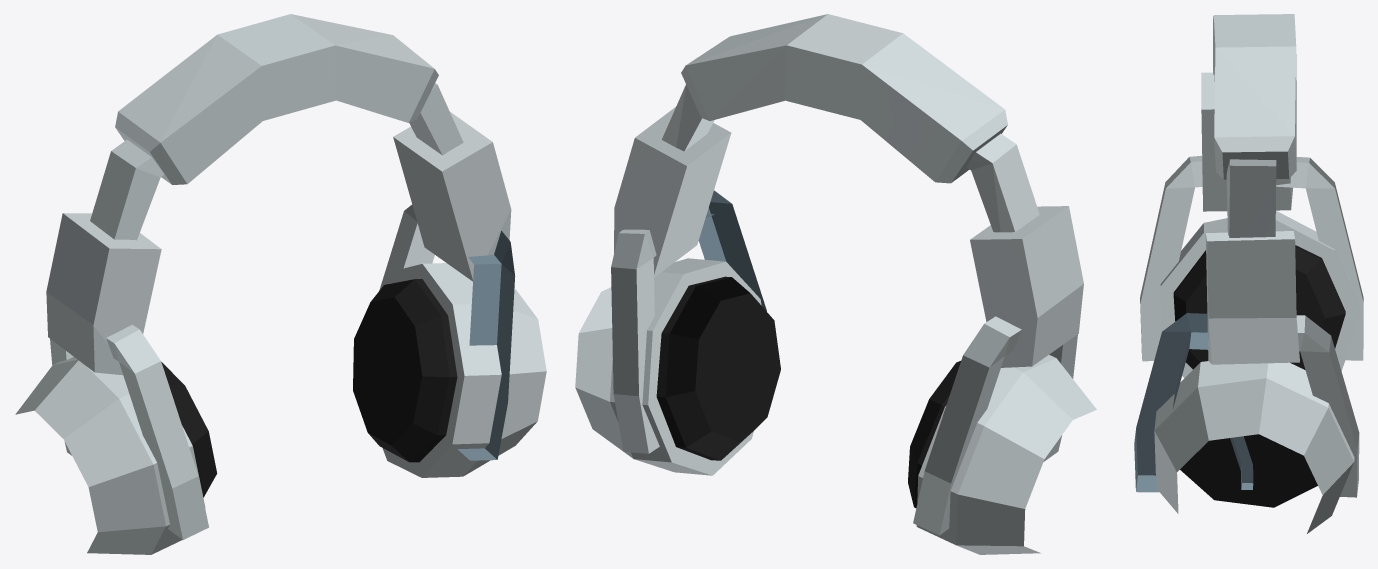
File: Headphones by Nick Slough - qAdSFPFhzJ.glb
3 views of the same model, side by side, from view 1: azimuth 30°, elevation 25°; view 2: azimuth 150°, elevation 25°; view 3: azimuth 270°, elevation 25° (orthographic). The views are drawn at different scales.
Visible parts, largest first — view 1: Headphones; view 2: Headphones; view 3: Headphones.
Part boxes in pixels (left/top/right/bottom): Headphones: left=15, top=14, right=546, bottom=554; Headphones: left=575, top=14, right=1096, bottom=554; Headphones: left=1134, top=14, right=1363, bottom=533.
Size of the model in its own units: 0.2662 by 0.2516 by 0.1178.
